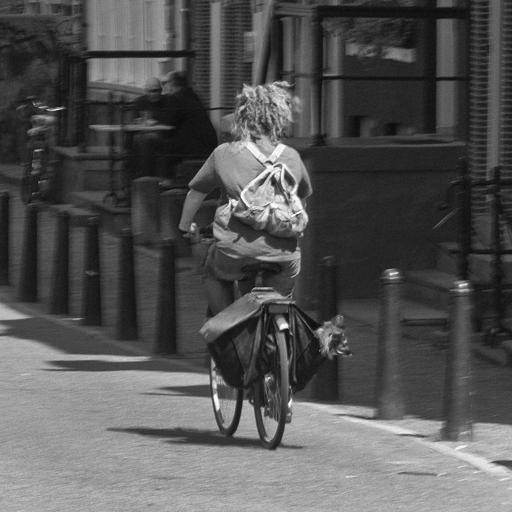non-vehicle: (178, 217, 295, 448), (16, 94, 66, 203)
